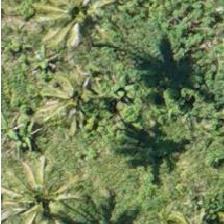coconut_tree: (0, 143, 82, 223), (19, 0, 109, 49)
